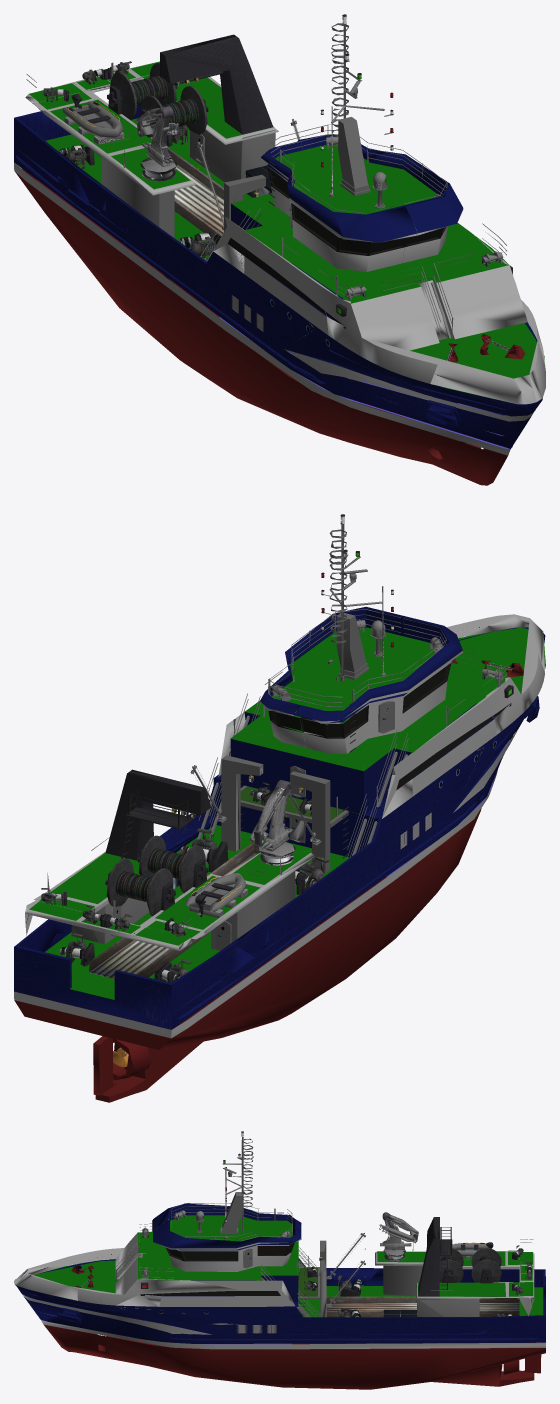
Rendered from fishing.glb.
3 views of the same model, one above another, from view 1: azimuth 30°, elevation 25°; view 2: azimuth 150°, elevation 25°; view 3: azimuth 270°, elevation 25° (orthographic). The views are drawn at different scales.
Visible parts, largest first — view 1: vehicle; view 2: vehicle; view 3: vehicle.
Part boxes in pixels (x1,y1,x2,y2): vehicle: [14, 14, 545, 485]; vehicle: [14, 514, 545, 1102]; vehicle: [14, 1131, 545, 1389].
Size of the model in its own units: 10.08 by 23.01 by 44.2.
50 materials, 44 textured.
